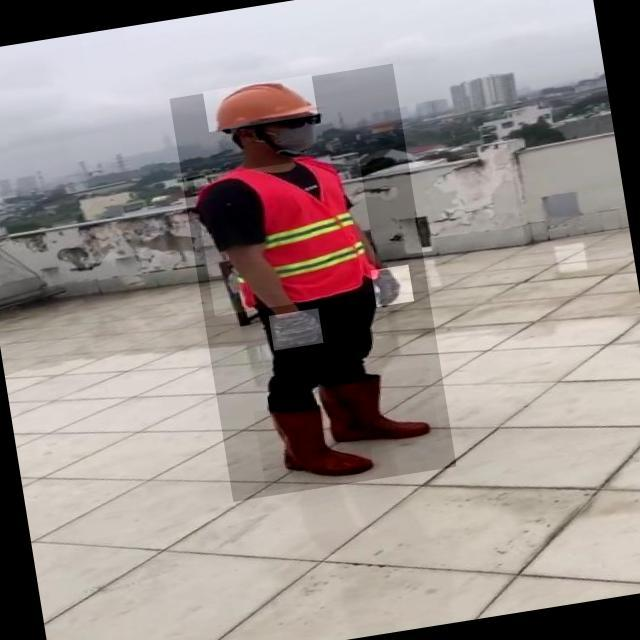Gloves: (269, 309, 324, 351), (372, 265, 415, 307)
Helmet: (203, 74, 318, 132)
Human: (170, 63, 457, 502)
Safety Boot: (254, 395, 375, 492), (324, 366, 440, 453)
Safety Vest: (193, 152, 380, 316)
